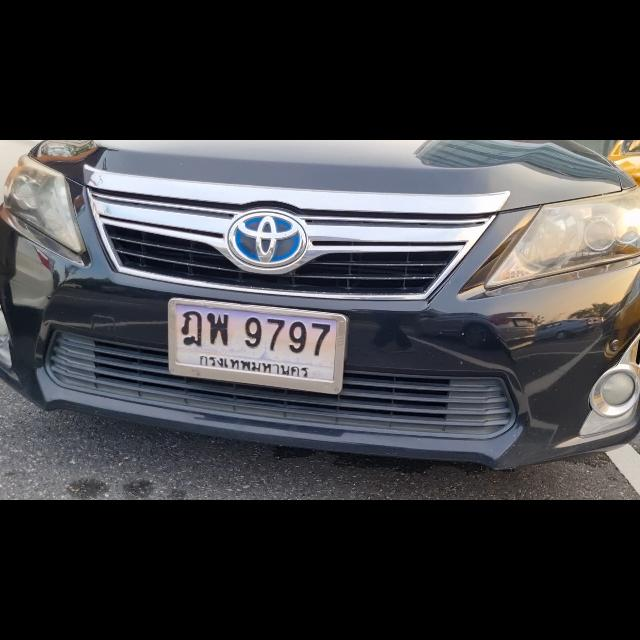licenseplate: (166, 296, 348, 396)
